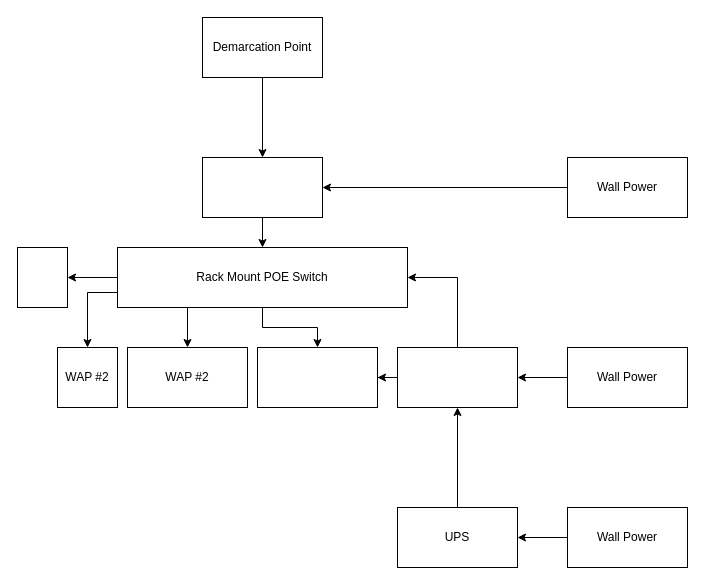
The diagram is 705 pixels wide and 585 high, and some of its shapes have lost their labels. Here are the shapes that lost their labels. From the top down, the box of each, then its label:
(202, 156, 322, 218): Modem / Router
(16, 246, 68, 308): NAS
(256, 346, 378, 408): 4u Server Chassis
(396, 346, 518, 408): PDU
